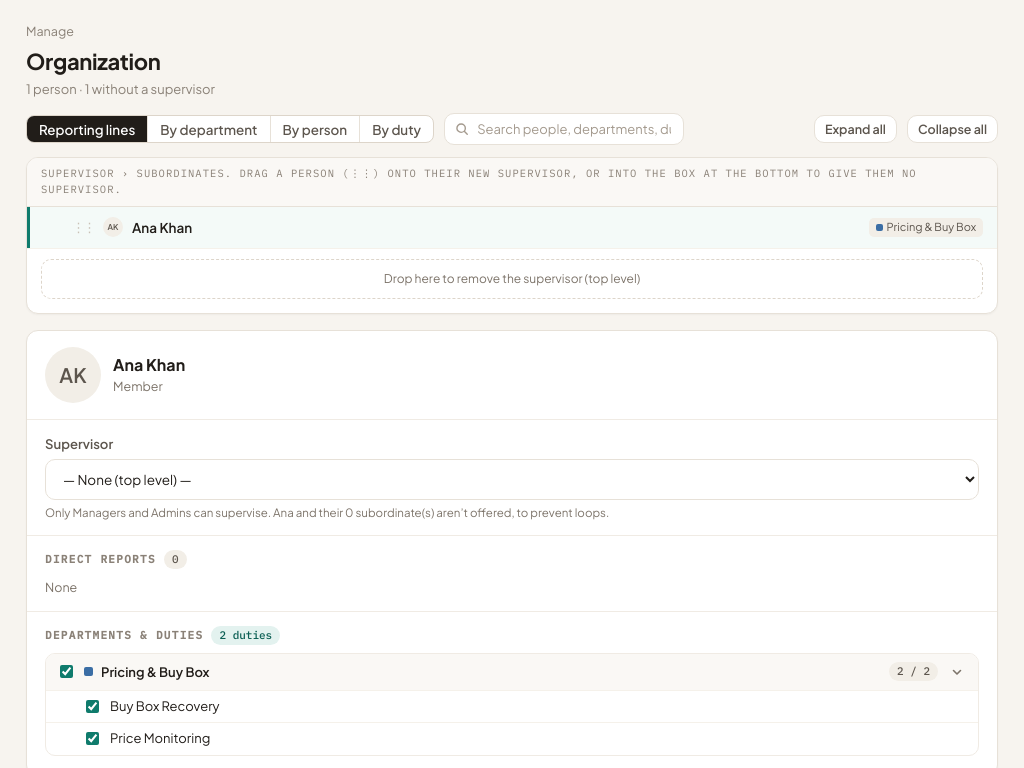
it: OrganizationPage — duties Alert Task Setup needs › warns under a needed duty as soon as it is unticked, and keeps Save off
Click the checkbox labelled "Buy Box Recovery".
click(92, 706)  # box [86, 700, 99, 713]
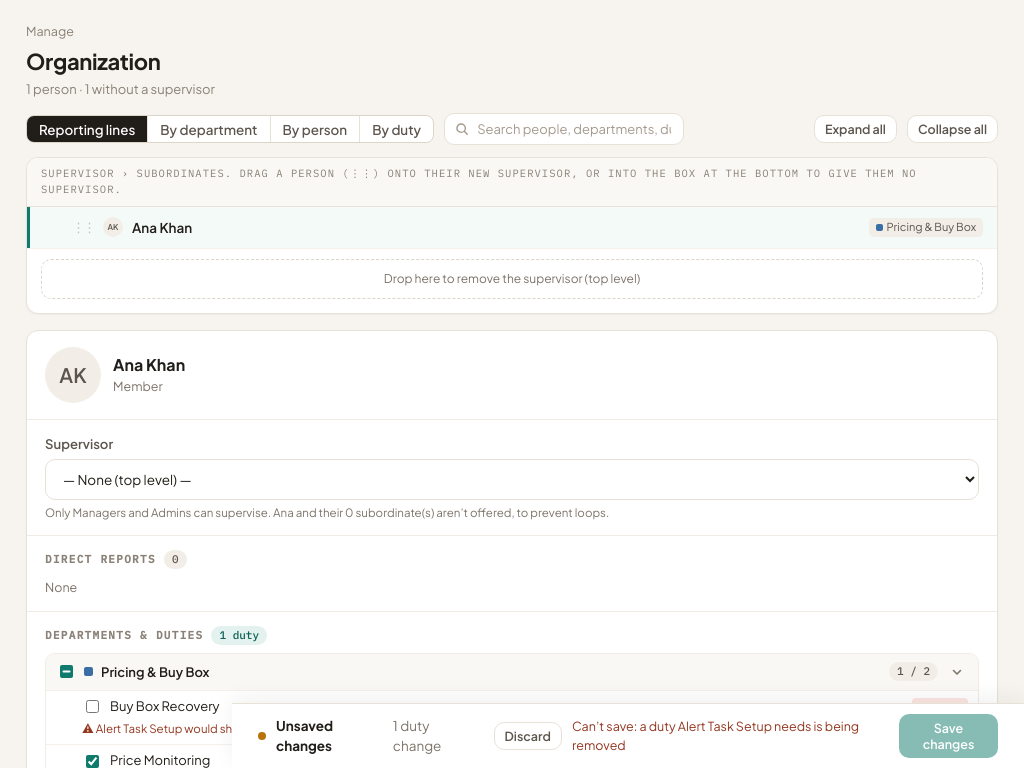
Expected: the text "Alert Task Setup would show a warning on Ana Khan as Pricing Analyst for Buy Box Lost" is shown, [46, 720, 978, 744]
Expected: the button "Save changes" is disabled, [899, 714, 998, 758]
Expected: the text "Can’t save: a duty Alert Task Setup needs is being removed" is shown, [572, 717, 889, 755]
# Ticking it again clears the warning (and, with nothing else changed, the bar).
Click the checkbox labelled "Buy Box Recovery".
click(92, 706)  # box [86, 700, 99, 713]
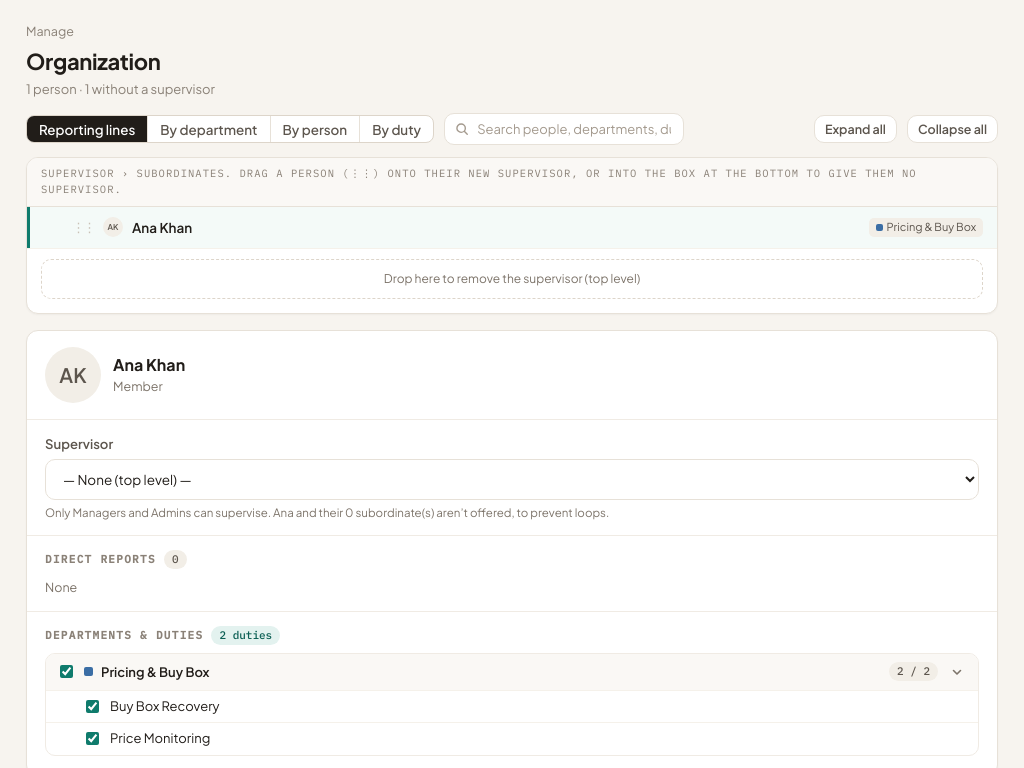
Expected: the text "Alert Task Setup would show a warning" is gone
Expected: the button "Save changes" is gone
